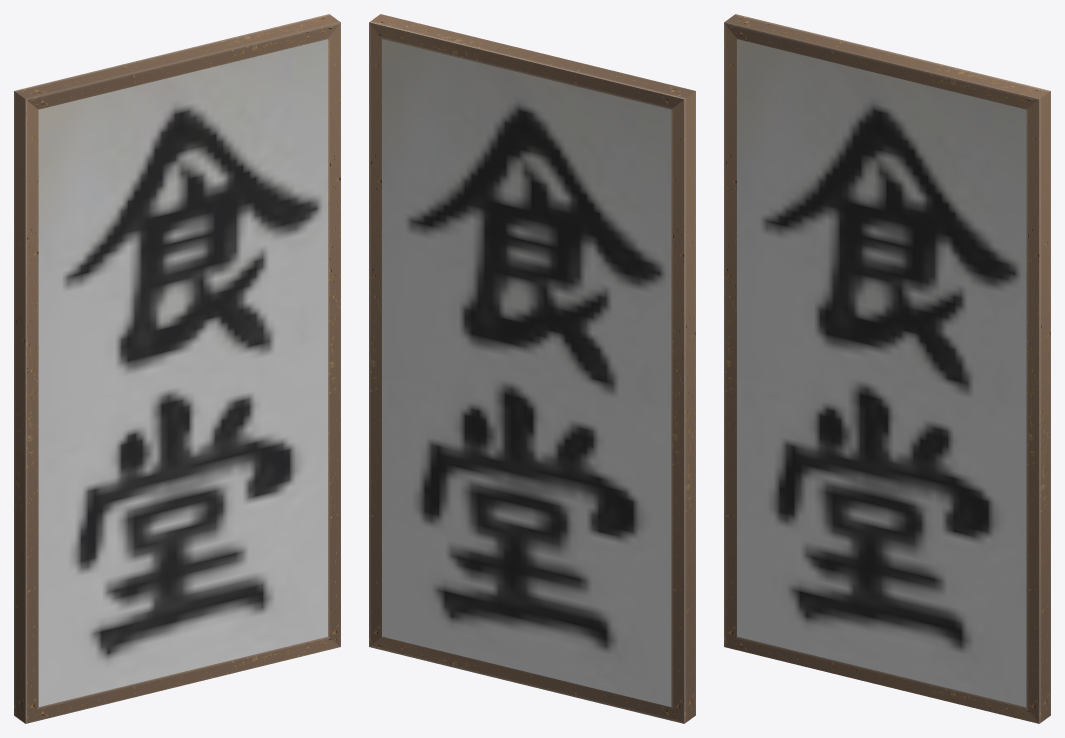
File: shopboard06e.fbx
3 renders of one model, left to right at view 1: azimuth 30°, elevation 25°; view 2: azimuth 150°, elevation 25°; view 3: azimuth 330°, elevation 25°, orthographic.
Parts seen in each view (by area): view 1: shopboard06e; view 2: shopboard06e; view 3: shopboard06e.
Part boxes in pixels (x1,y1,x2,y2): shopboard06e: (14, 14, 340, 723); shopboard06e: (369, 14, 695, 723); shopboard06e: (724, 14, 1050, 723).
Size of the model in its own units: 39.95 by 75.65 by 2.51.
